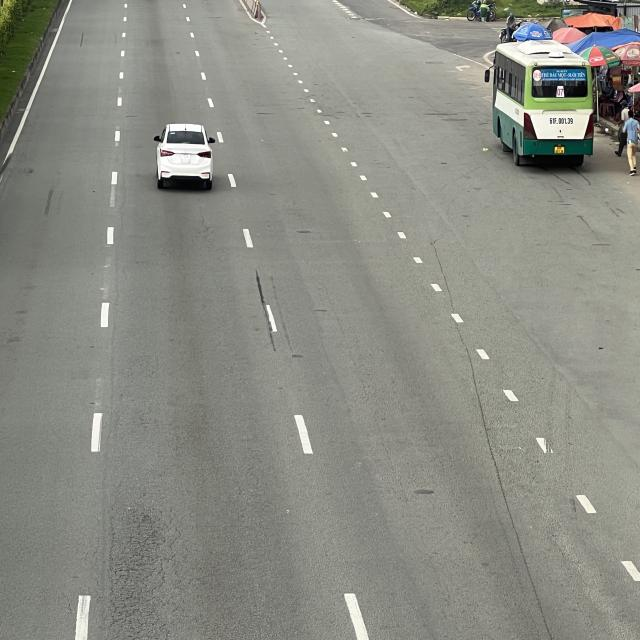car: (153, 124, 218, 192)
coach: (486, 43, 598, 168)
